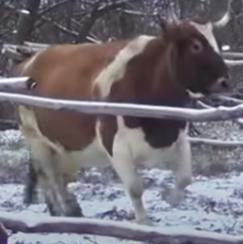cow: (11, 22, 237, 223)
